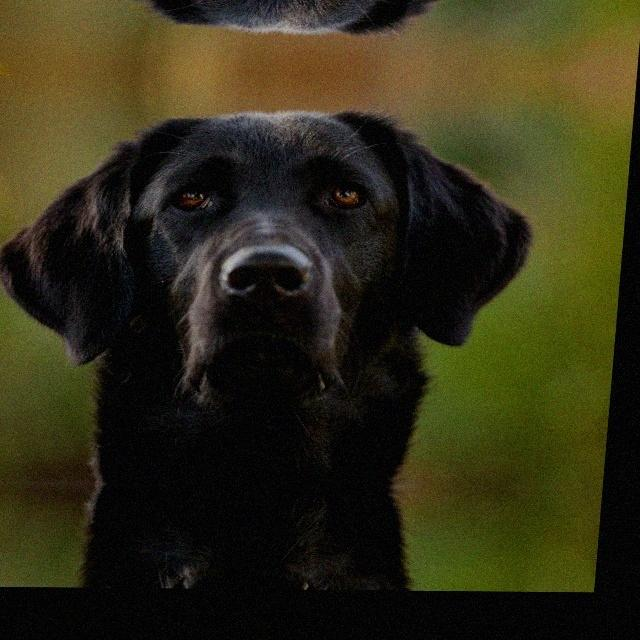dog: (0, 105, 560, 374), (21, 0, 571, 38)
